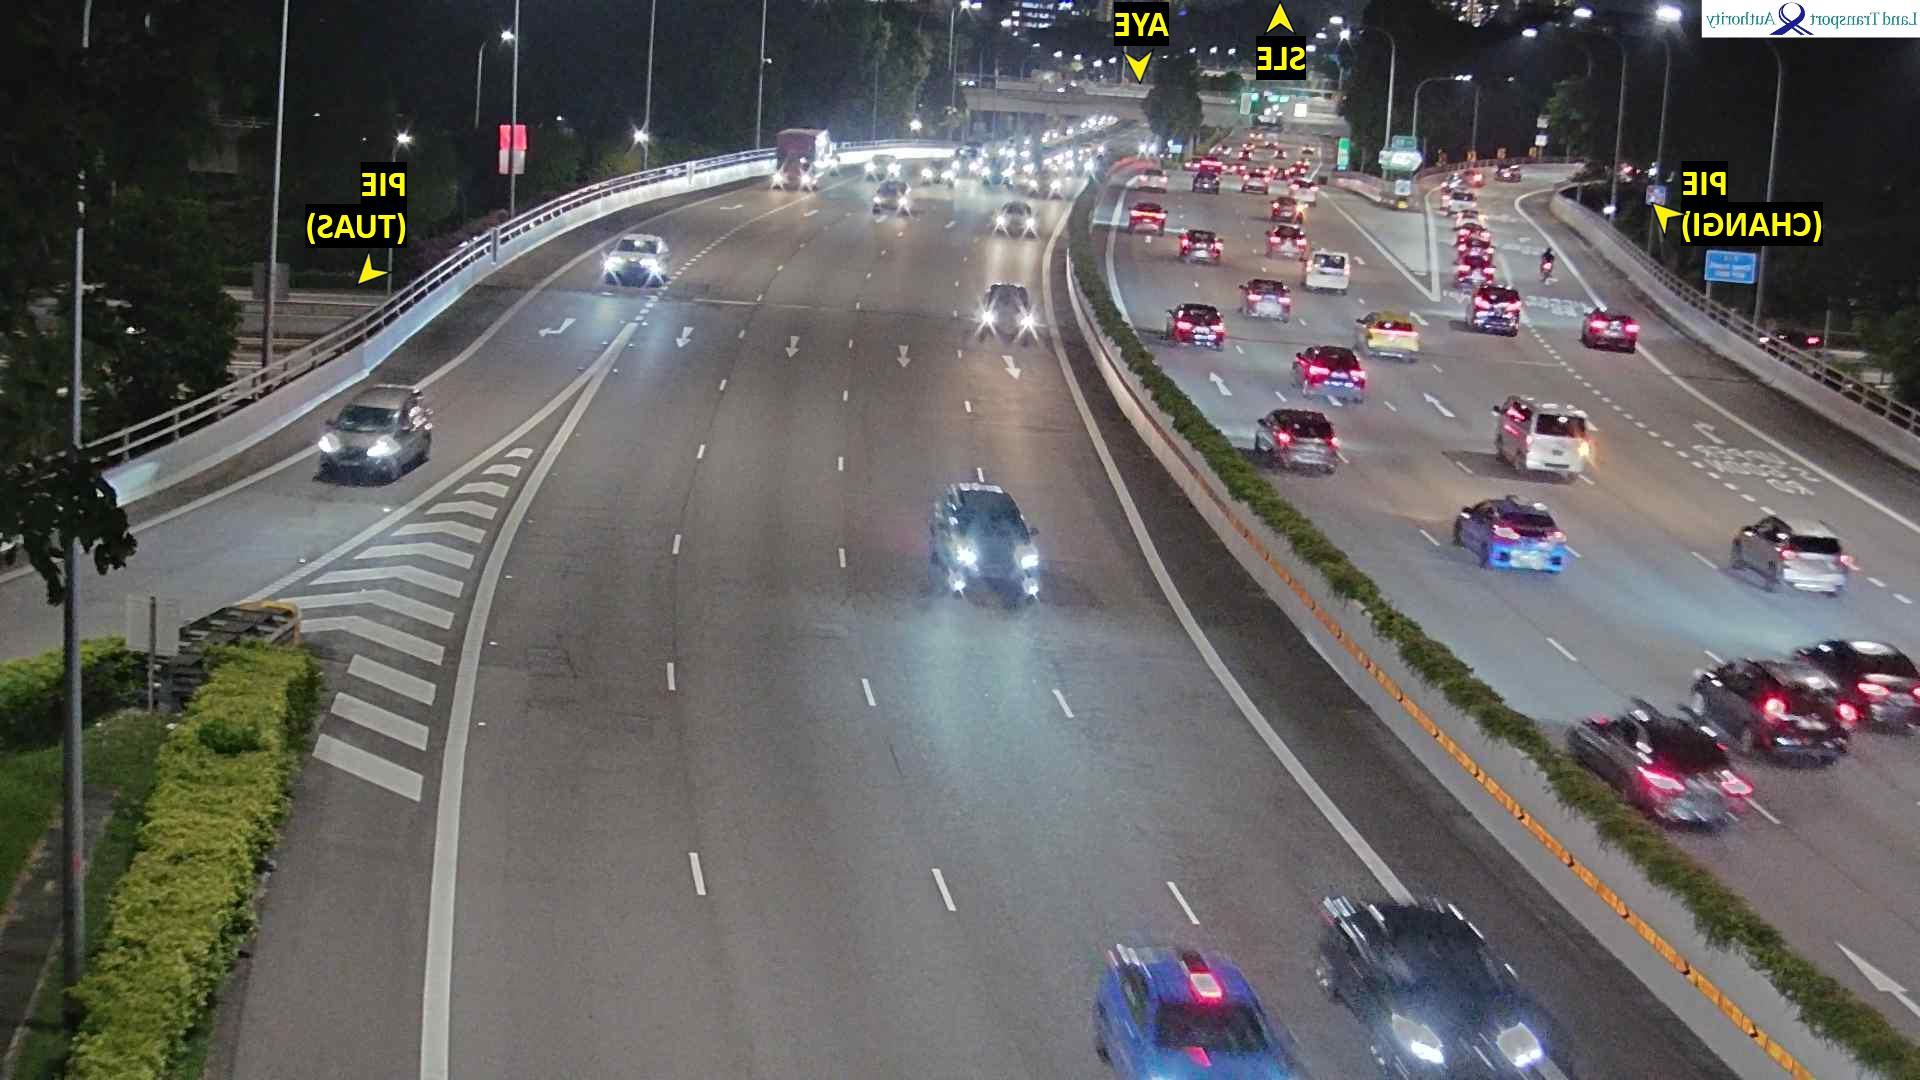incoming: (1346, 943, 1580, 1075), (1116, 971, 1295, 1080), (931, 505, 1050, 604), (305, 406, 418, 481), (967, 293, 1042, 348), (588, 243, 673, 287), (766, 154, 812, 193), (990, 206, 1038, 236), (864, 187, 910, 214), (973, 161, 1014, 189), (1023, 174, 1060, 199), (858, 160, 902, 181), (919, 161, 955, 186), (951, 148, 978, 173), (1063, 158, 1095, 178)
